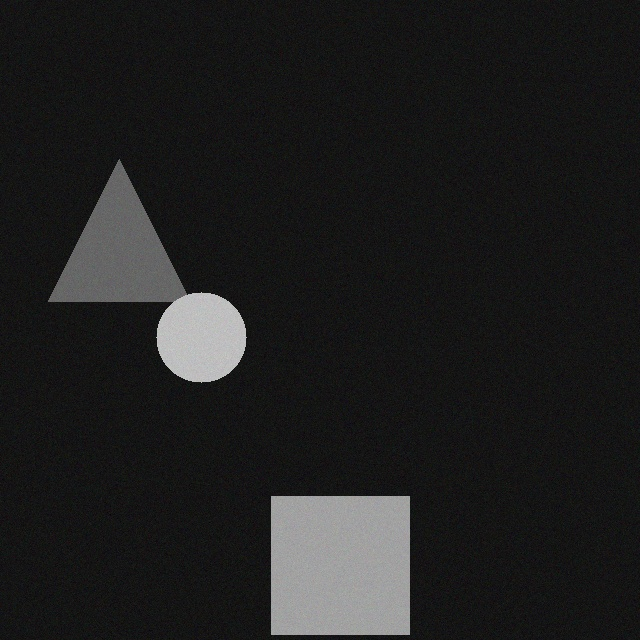circle: (143, 286, 233, 376)
square: (258, 490, 396, 628)
triangle: (35, 153, 177, 295)
